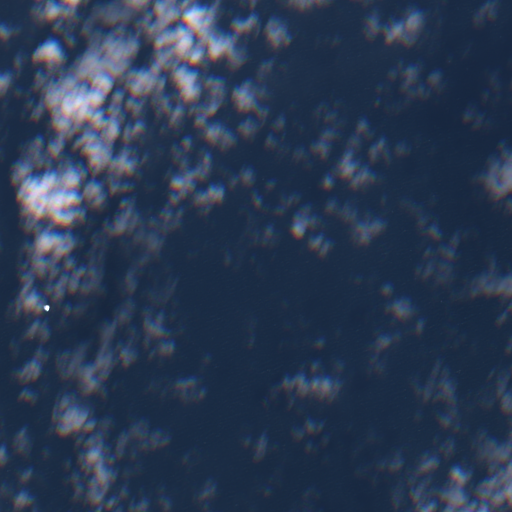Iceberg: (44, 305, 49, 310)
